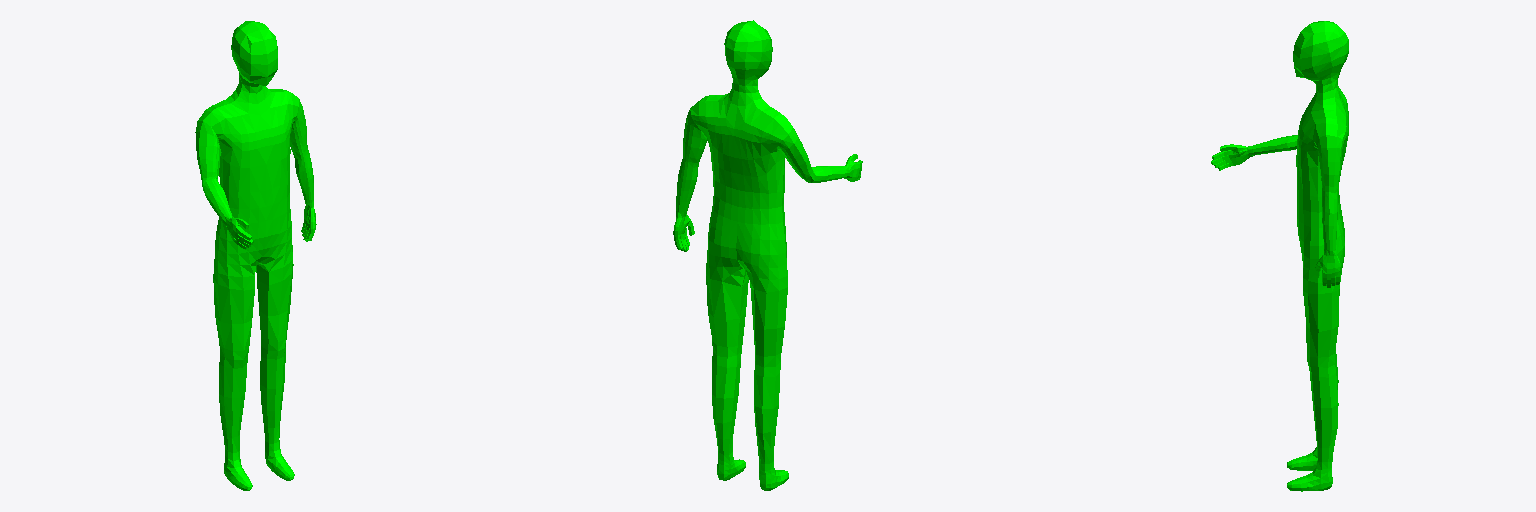
URDF robot description (person):
<?xml version="1.0"?>
<robot name="person">
    <link name="body">
        <visual>
            <geometry>
                <mesh filename="package://moman_moveit_config/config/Man.stl"/>
            </geometry>
            <material name="Green">
                <color rgba="0 1 0 1"/>
            </material>
        </visual>
        <collision>
            <geometry>
                <mesh filename="package://moman_moveit_config/config/Man.stl"/>
            </geometry>
        </collision>
        <inertial>
            <mass value="1.0"/>
            <origin rpy="0 0 0" xyz="0 0 0"/>
            <inertia ixx="10.0" ixy="0.0" ixz="0.0" iyy="10.0" iyz="0.0" izz="10.0"/>
        </inertial>
    </link>
</robot>

--- Render facts (derived) ---
3 views of the same robot in one strip: view 1: azimuth 30°, elevation 25°; view 2: azimuth 150°, elevation 25°; view 3: azimuth 270°, elevation 25° (orthographic).
Model person with 1 links and 0 joints (none), rooted at body, posed every joint at zero.
Links seen in each view (by area): view 1: body; view 2: body; view 3: body.
Link boxes in pixels (x1,y1,x2,y2): body: [195, 21, 316, 490]; body: [673, 20, 862, 490]; body: [1211, 21, 1348, 491].
Size in the robot's own frame: 0.5218 by 0.4822 by 1.75 metres.
Meshes: 1 distinct files referenced, 1 mesh visuals loaded (1 binary STL).
